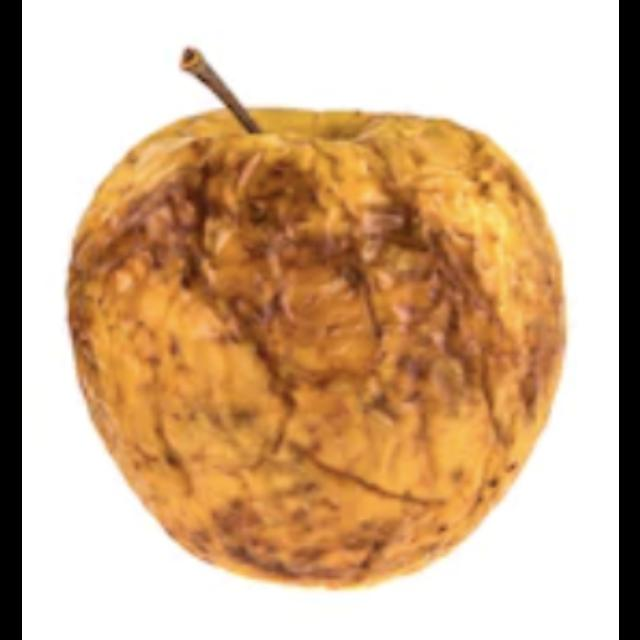Apel Tidak Segar: (68, 104, 558, 587)
